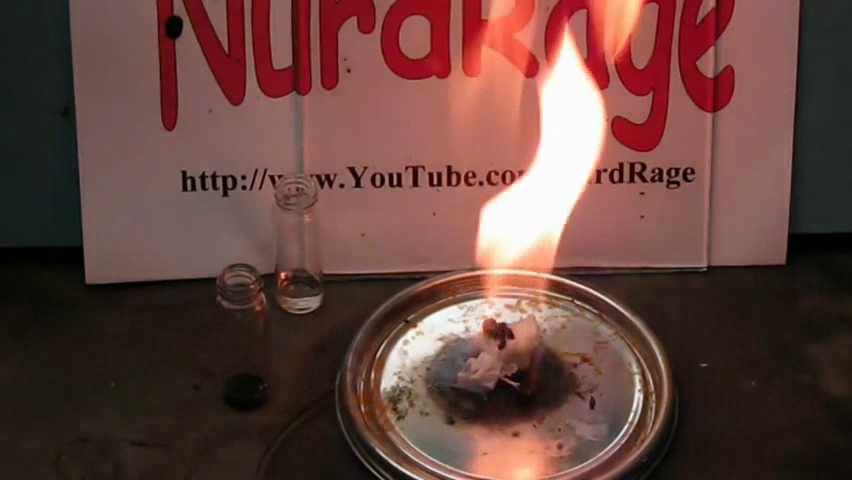fire: (465, 11, 611, 344)
